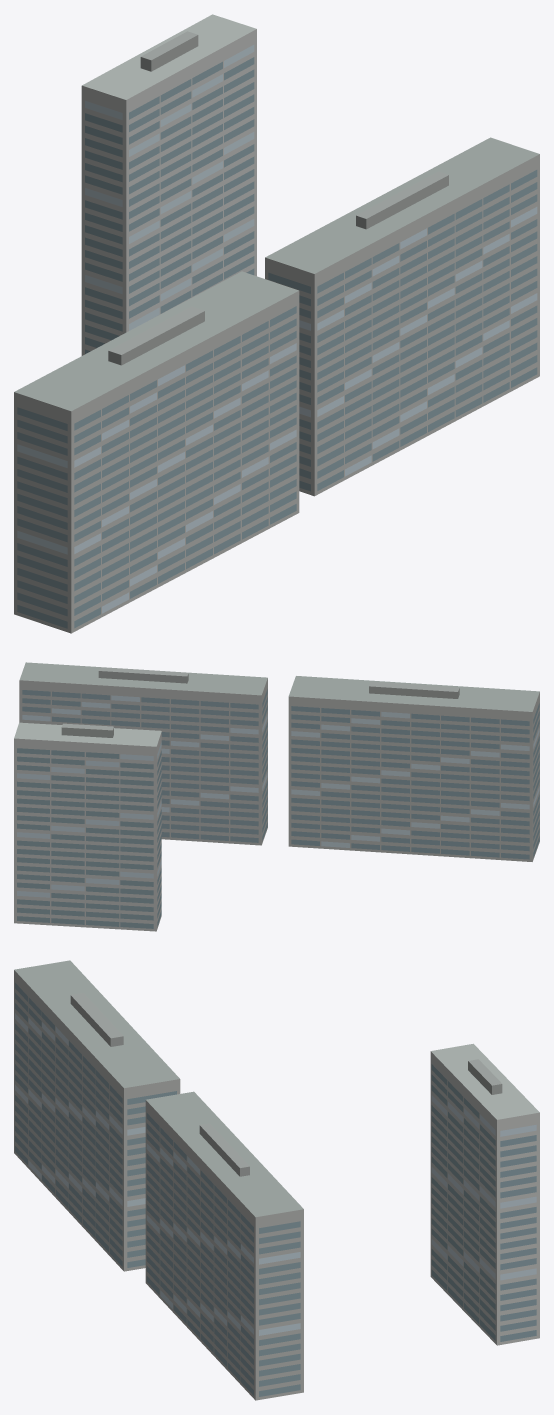
Rendered from apt-a13584101.glb.
The picture shows the model from 3 angles, top to bottom: view 1: azimuth 30°, elevation 25°; view 2: azimuth 150°, elevation 25°; view 3: azimuth 270°, elevation 25°; orthographic projection. The views are drawn at different scales.
Visible parts, largest first — view 1: apt-a13584101; view 2: apt-a13584101; view 3: apt-a13584101.
Boxes of the visible parts, bbox=[...] form: apt-a13584101: bbox=[14, 14, 539, 633]; apt-a13584101: bbox=[14, 662, 539, 931]; apt-a13584101: bbox=[14, 960, 539, 1400].
Size of the model in its own units: 141 by 60 by 122.
